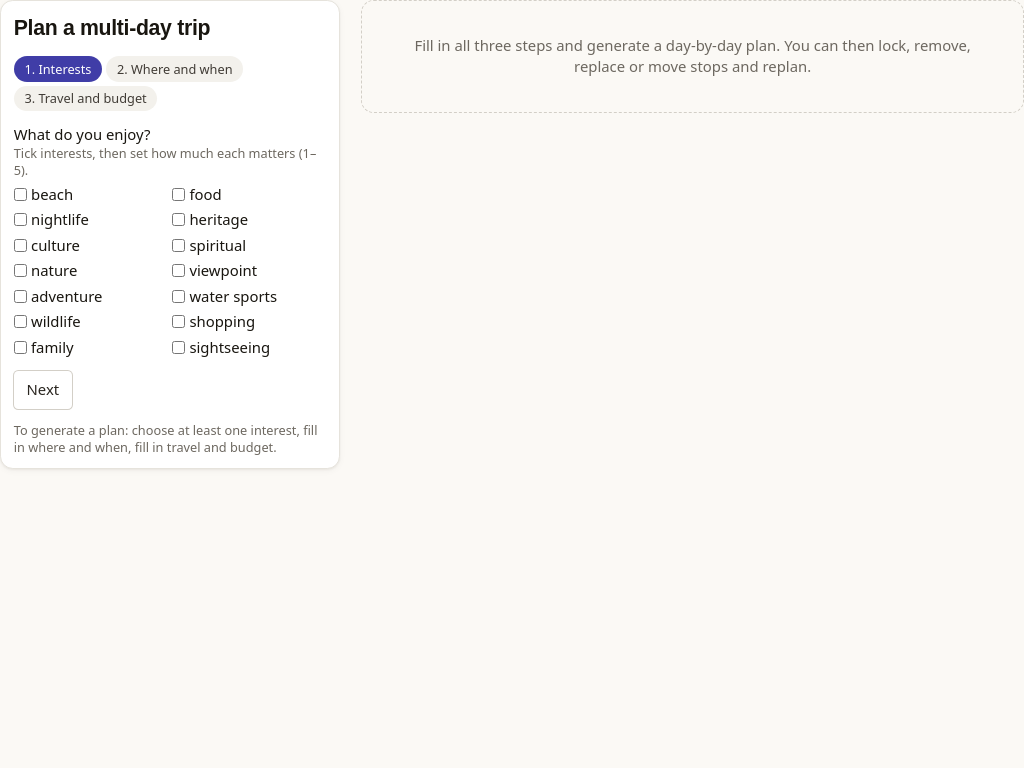
it: overview shows workload per day, budget lines with labels and uncovered interests
The width and height of the screenshot is (1024, 768).
Click the checkbox labelled "beach".
click(20, 194)  # box [14,188,27,201]
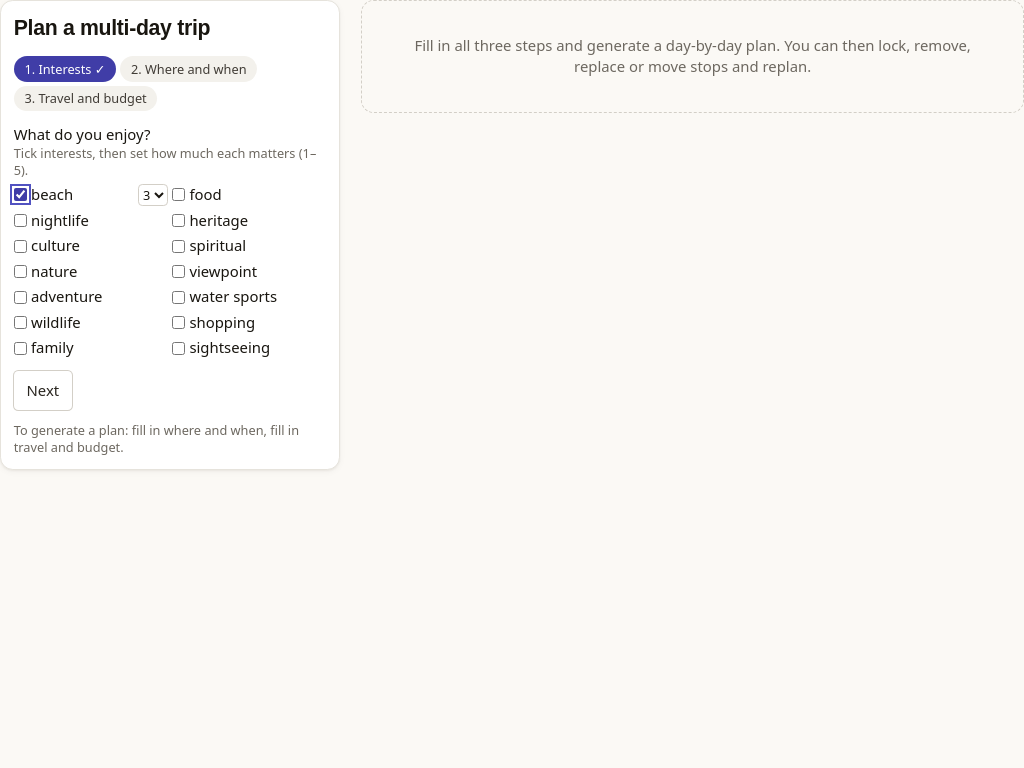
Click the button "Next".
click(43, 391)  # box [14,371,72,410]
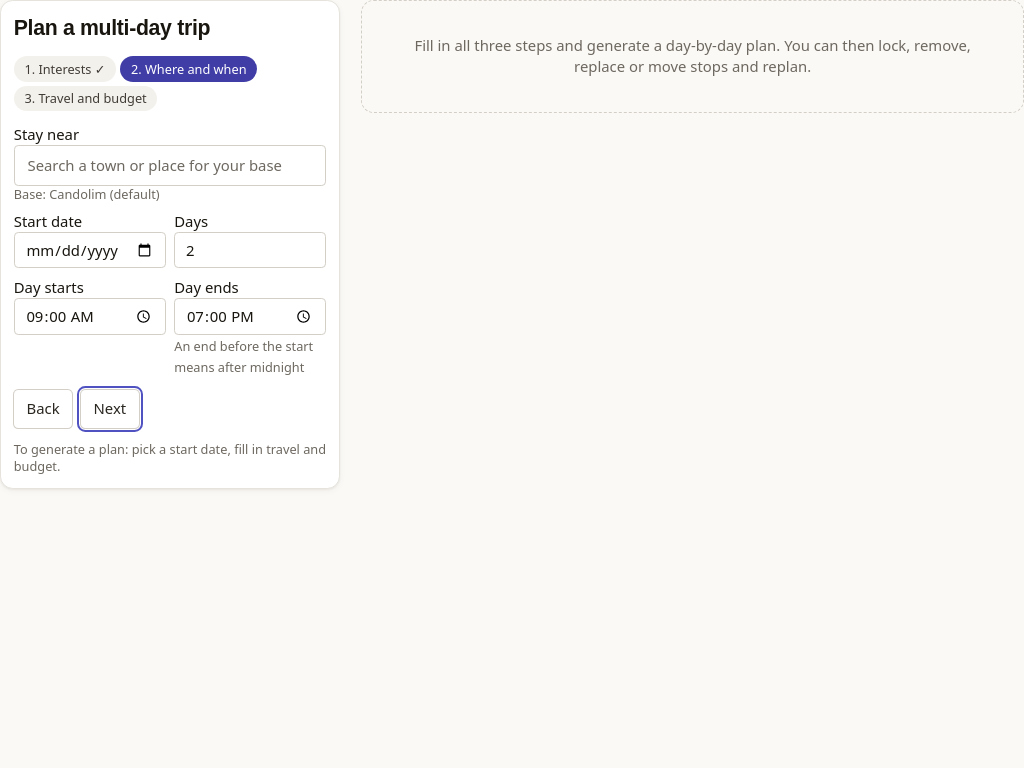
Type "2026-12-14" into the date field labelled "Start date".
click(90, 250); type("2026-12-14")  # box [14,232,166,268]
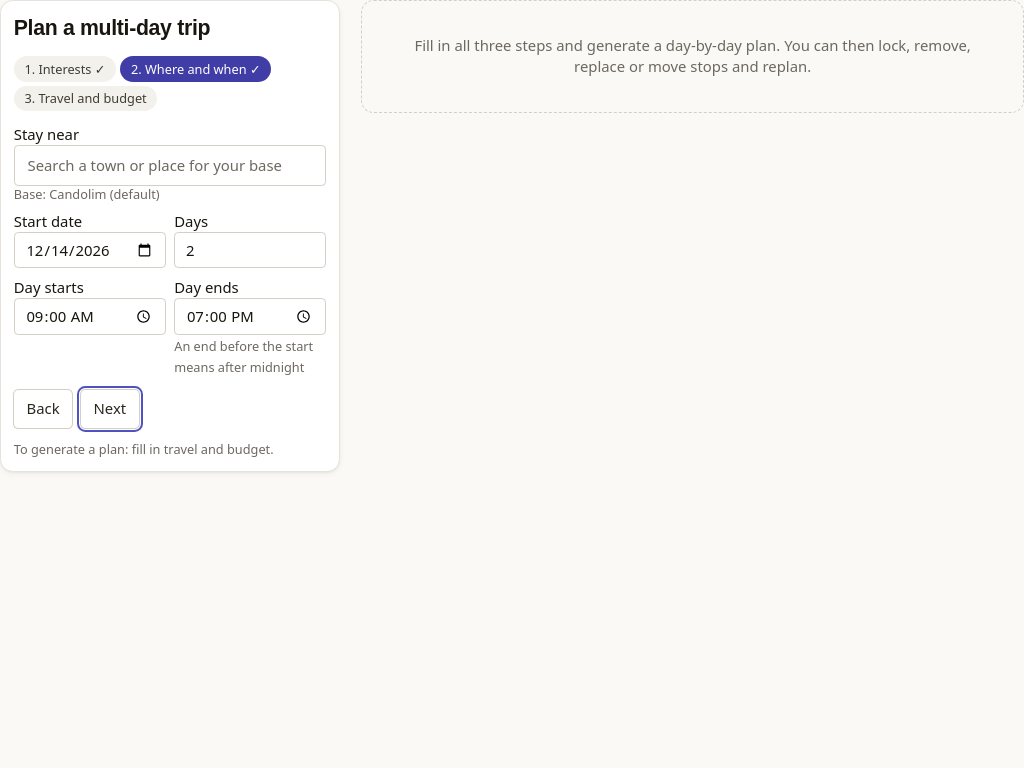
Click the button "Next".
click(110, 409)  # box [81,390,139,428]
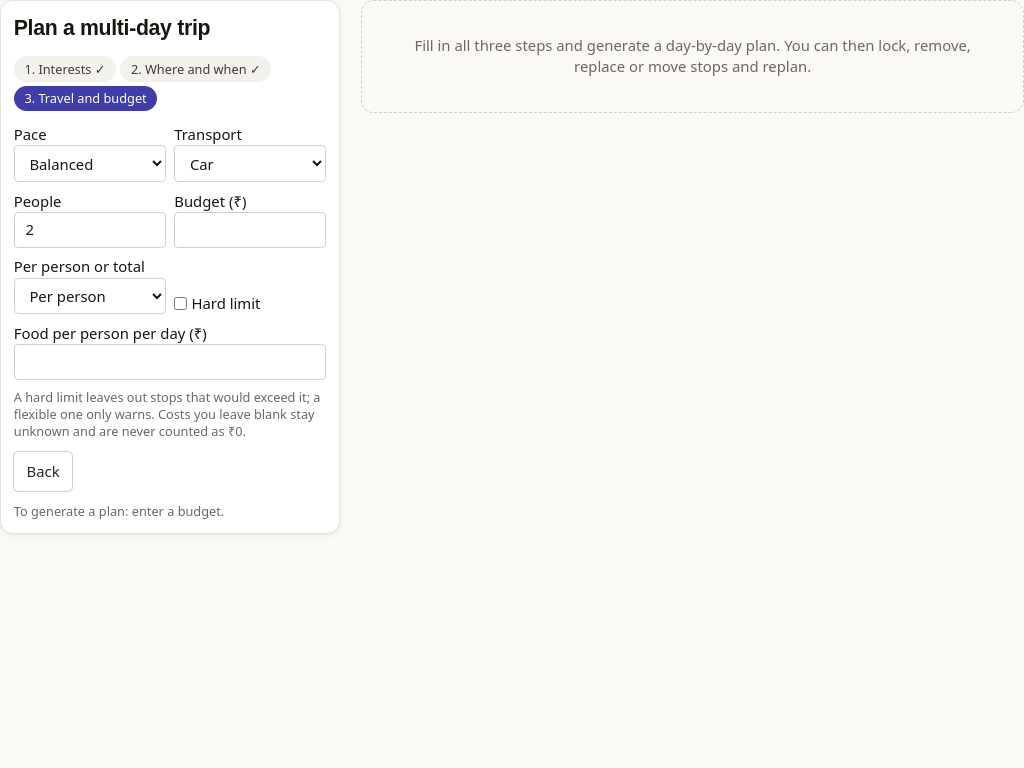
Type "5000" into the number field labelled "Budget (₹)".
click(250, 230); type("5000")  # box [174,212,326,248]
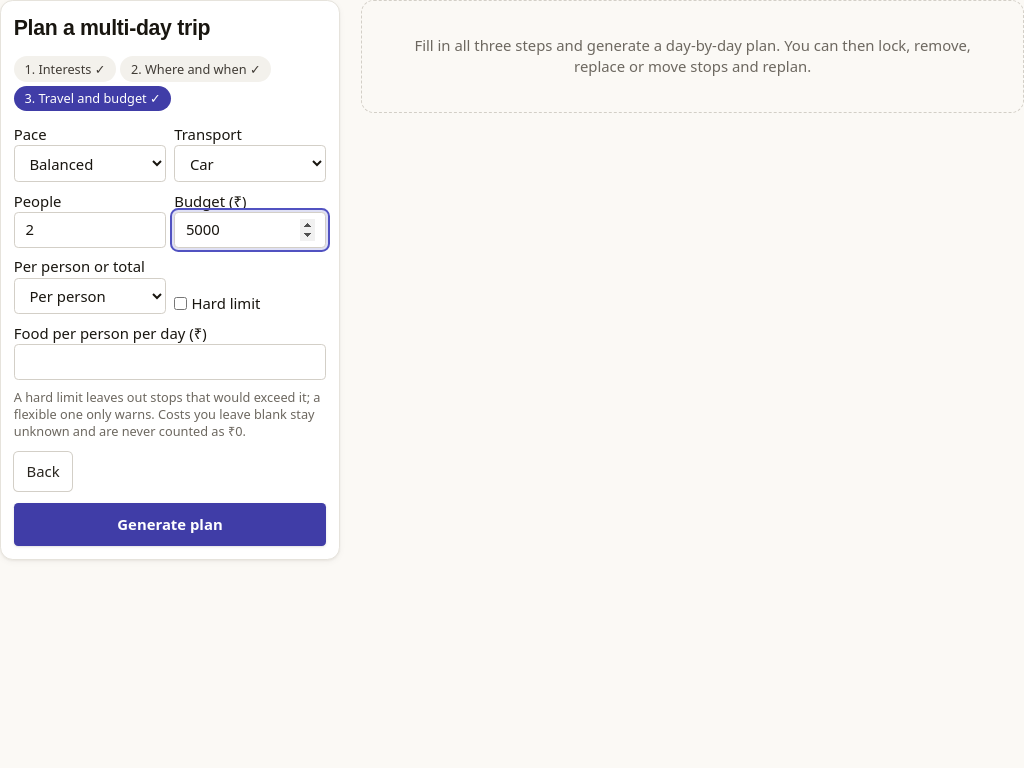
Click the button "Generate plan".
click(170, 525)  # box [14,503,326,546]
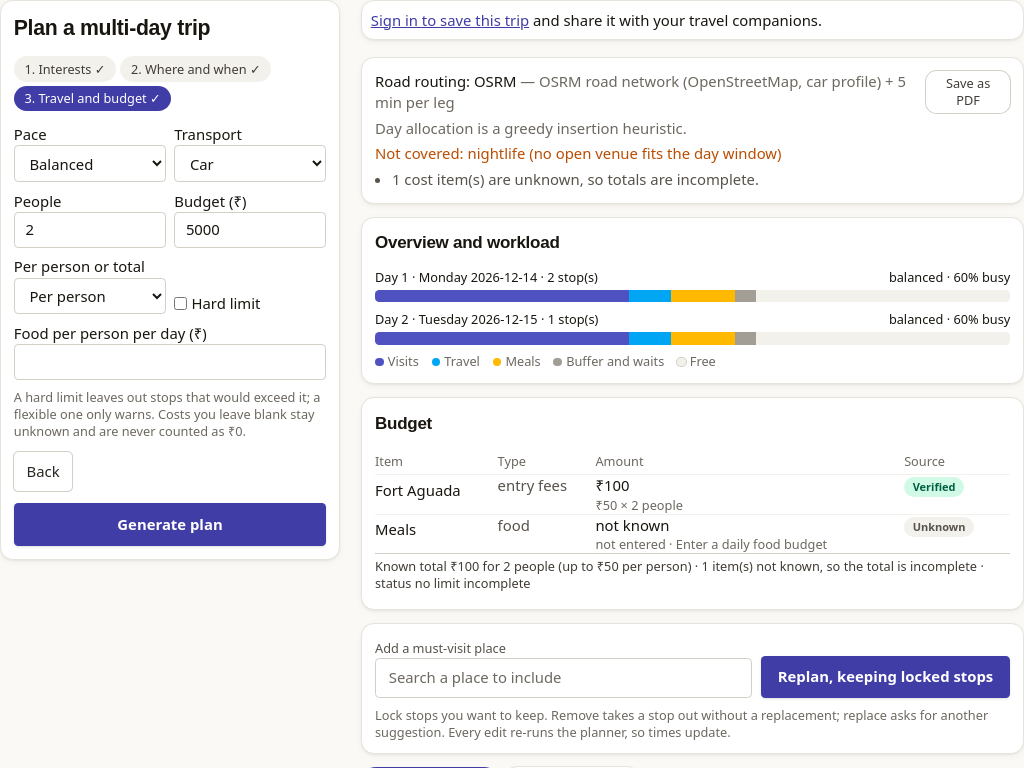
Check: the text "Fort Aguada" is shown, box [375,475,498,514]
Check: the text "Verified" is shown, box [904,477,964,497]
Check: the text "Unknown" is shown, box [904,516,974,536]
